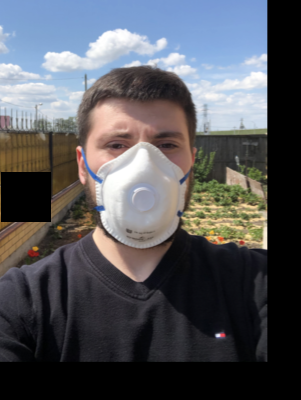with_mask: (90, 120, 192, 249)
